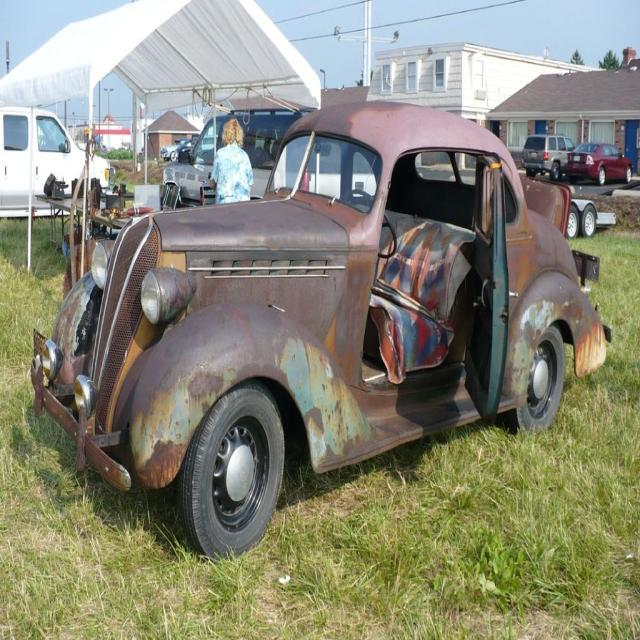car: (24, 107, 588, 562)
